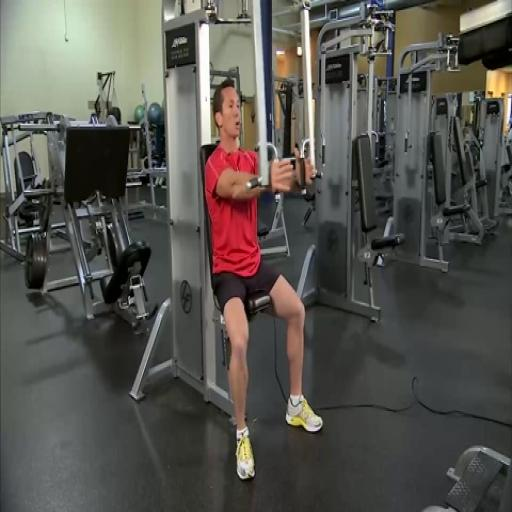exercise: (202, 78, 326, 484)
